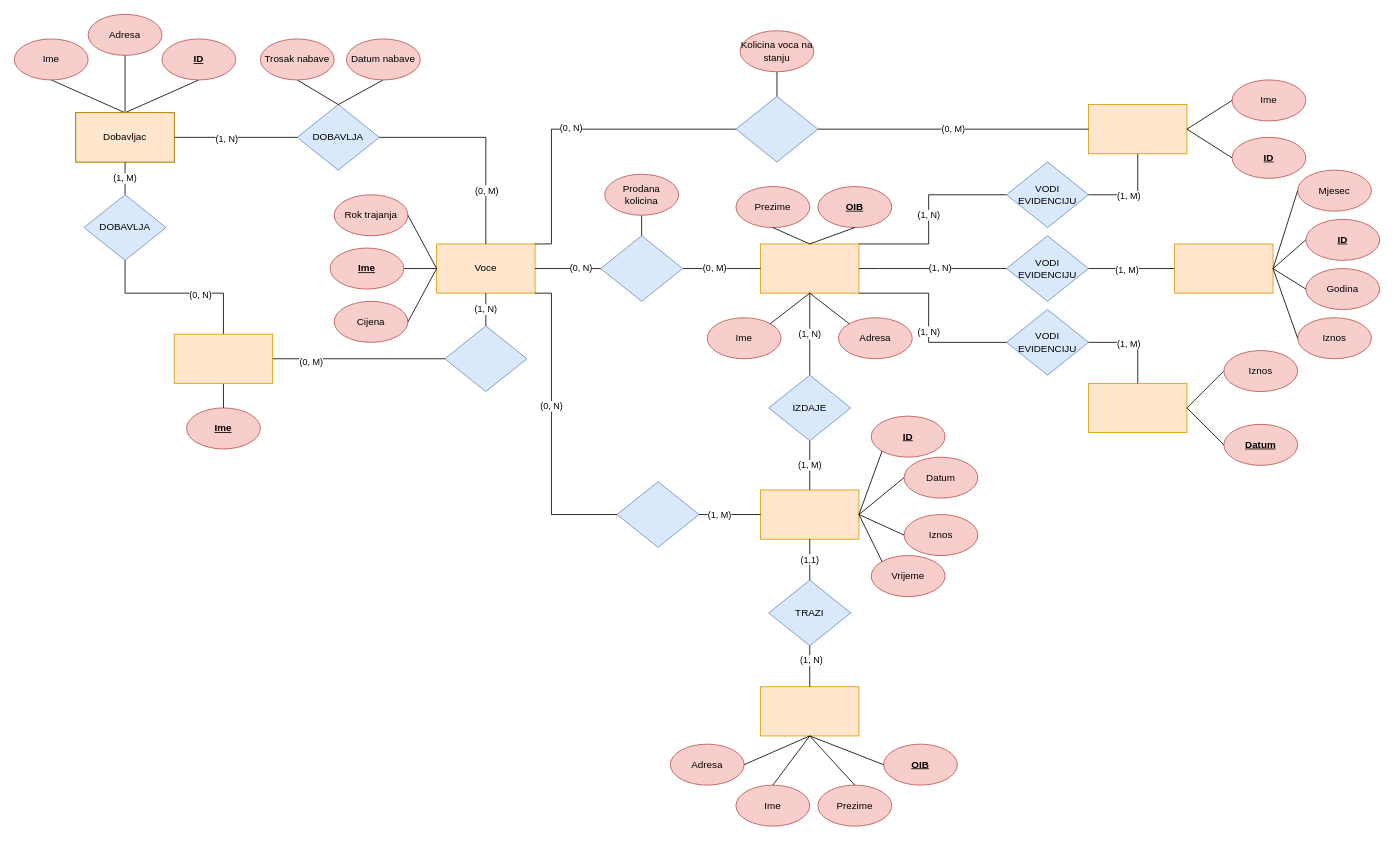
The diagram is 1394 pixels wide and 841 high, and some of its shapes have lost their labels. Each missing label, with the box of its shape:
Dnevni promet: (1088, 383, 1187, 433)
Kupac: (760, 686, 859, 736)
Mjesecni promet: (1174, 243, 1273, 293)
PRODAJE: (600, 235, 683, 301)
Racun: (760, 489, 859, 539)
SADRZI: (616, 481, 699, 547)
SE NALAZI U: (735, 96, 818, 162)
Skladiste: (1088, 104, 1187, 154)
UZGAJANO U: (444, 325, 527, 392)
Zaposlenik: (760, 243, 859, 293)
Zemlja: (173, 333, 273, 383)
